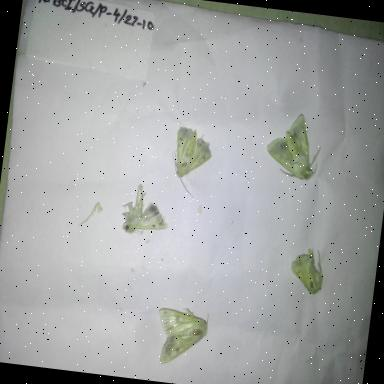abw: (262, 110, 324, 182), (152, 304, 210, 368), (166, 125, 214, 200), (119, 182, 173, 238), (288, 244, 326, 294)
